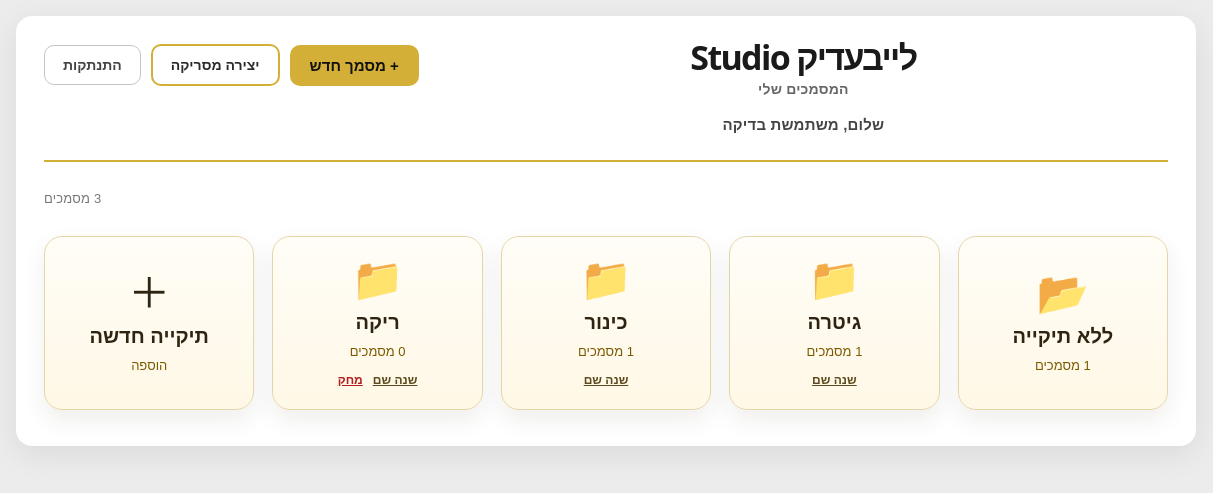
DocumentsHome › מציג מחק תיקייה בתצוגת תיקייה פתוחה וריקה
The image size is (1213, 493).
Click the button "📁 ריקה 0 מסמכים שנה שם מחק" at (378, 323), box x1=272 y1=236 x2=483 y2=410
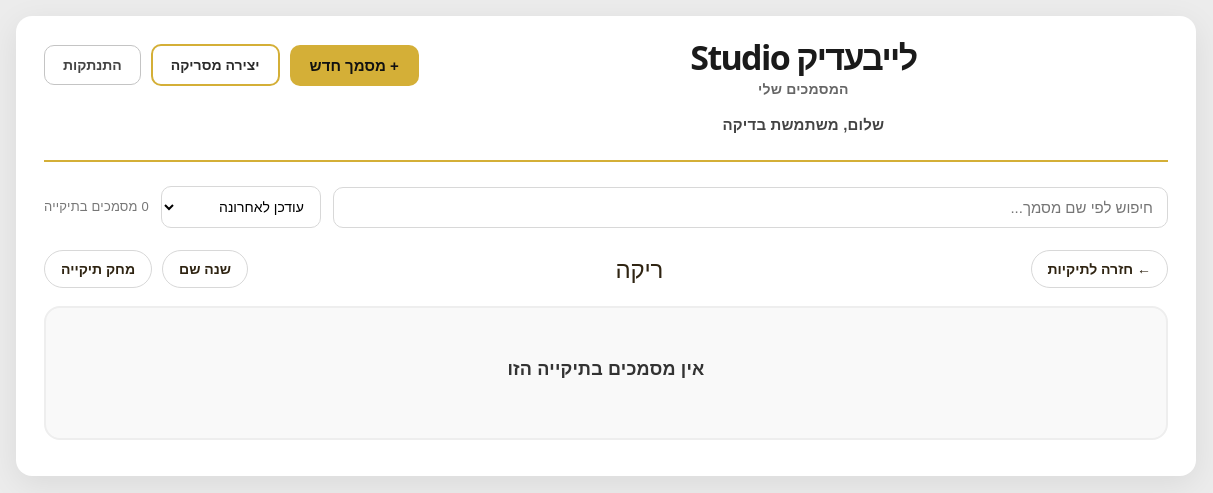
Now the button "מחק תיקייה" is shown, box x1=44 y1=250 x2=152 y2=288
